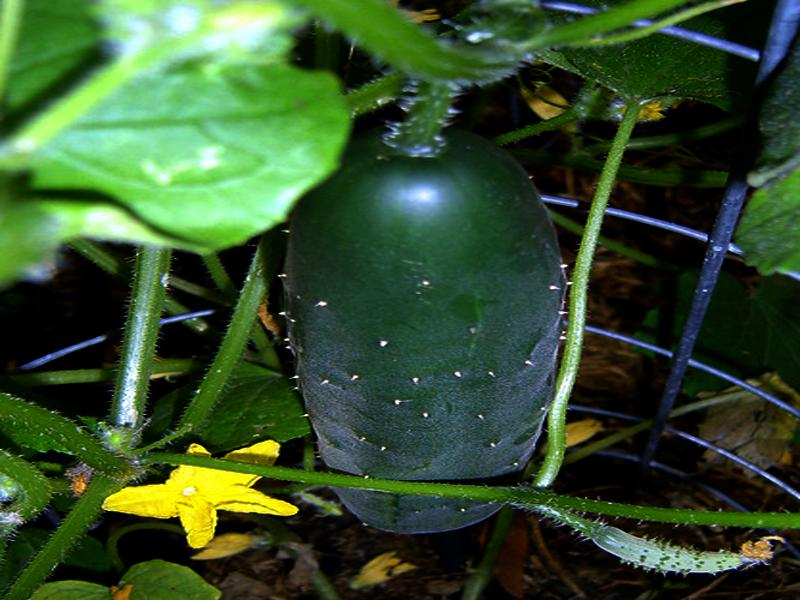Cucumber: (284, 125, 570, 532)
